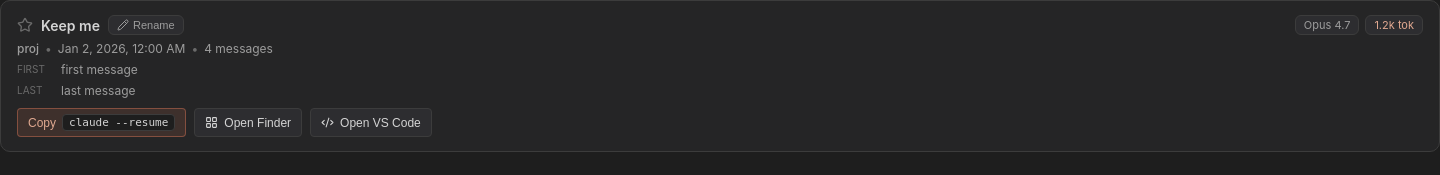
Test: SessionCard › cancels editing on Escape without renaming
Click the text "Keep me" at [70, 25], box [41,16,100,34]
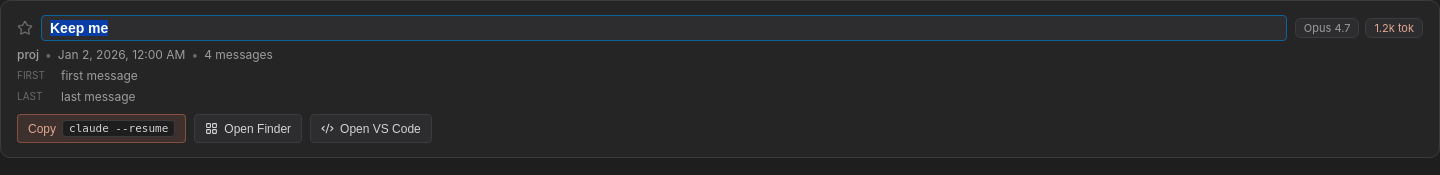
Replace the text in the field with "discarded" at [664, 28], box [41,15,1287,41]
Then press Escape
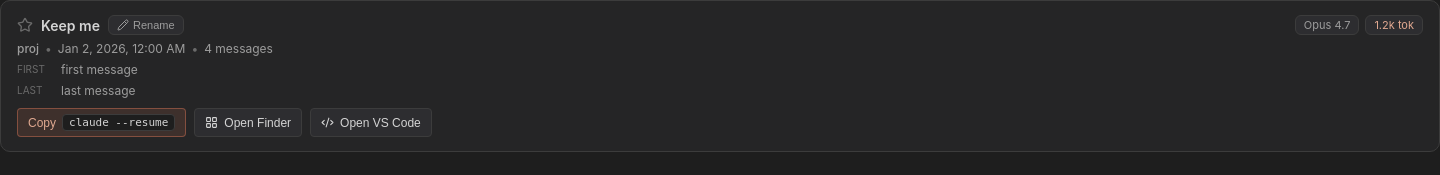
Expected: the text "Keep me" is shown, [41,16,100,34]
